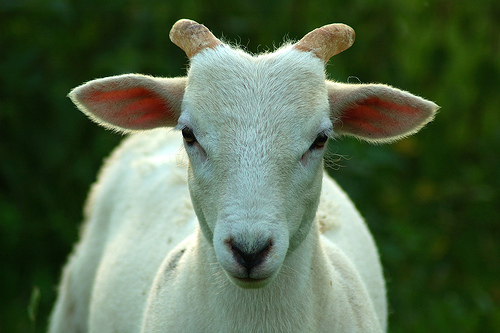goat: (44, 17, 442, 333)
